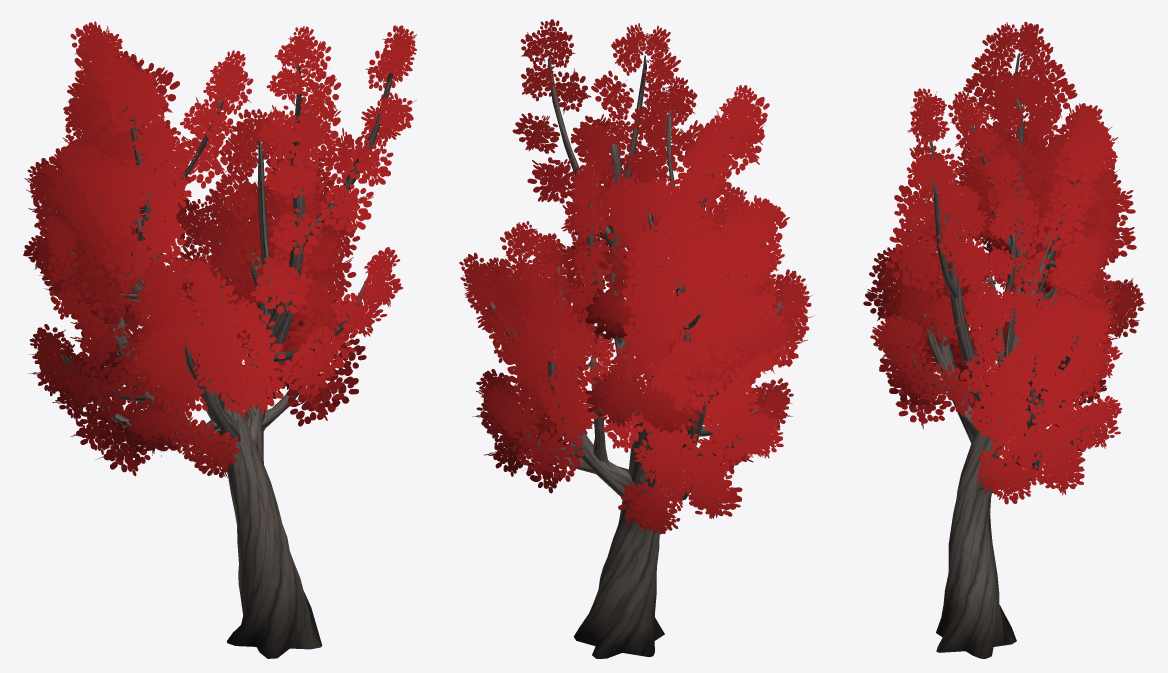
The model's file is twistedtree_2.glb.
3 views of the same model, side by side, from view 1: azimuth 30°, elevation 25°; view 2: azimuth 150°, elevation 25°; view 3: azimuth 270°, elevation 25° (orthographic). The views are drawn at different scales.
Visible parts, largest first — view 1: TwistedTree_2; view 2: TwistedTree_2; view 3: TwistedTree_2.
Part boxes in pixels (box(x1,y1,x2,y2)): TwistedTree_2: box(23, 21, 416, 658); TwistedTree_2: box(459, 19, 814, 658); TwistedTree_2: box(863, 21, 1145, 658).
Size of the model in its own units: 10.56 by 18.95 by 9.2.
2 materials, 2 textured.
